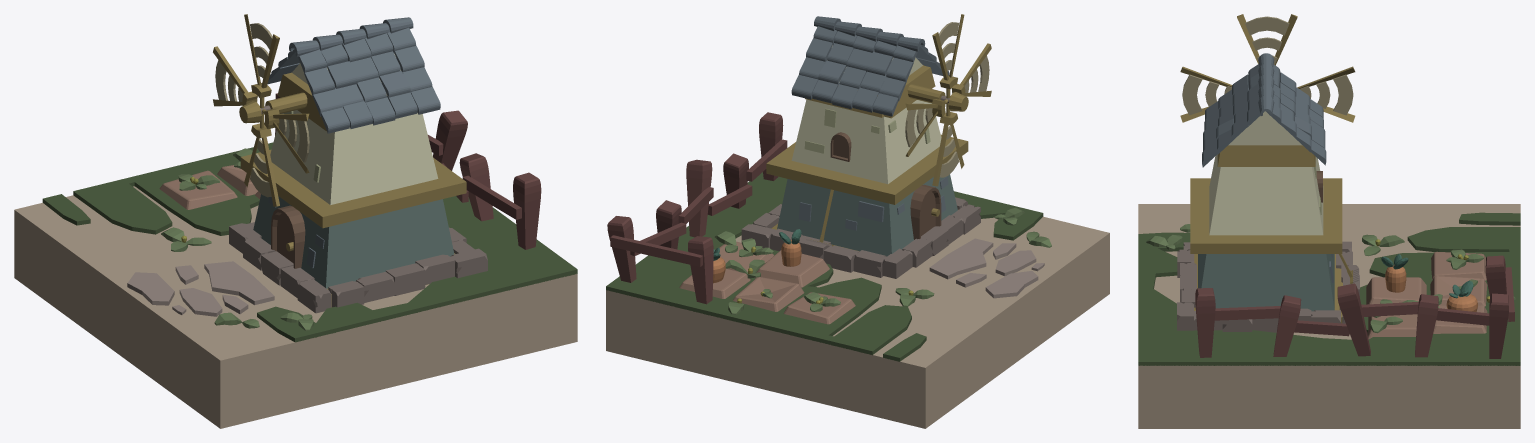
Rendered from 风车导出.fbx.
The picture shows the model from 3 angles, left to right: view 1: azimuth 30°, elevation 25°; view 2: azimuth 150°, elevation 25°; view 3: azimuth 270°, elevation 25°; orthographic projection. The views are drawn at different scales.
Parts seen in each view (by area): view 1: 底座, 立方体, 底座.001, 平面.040, 立方体.001, 平面.001, 立方体.008, 圆环.001, 立方体.006, 立方体.019, 立方体.005, 立方体.007 (+18 smaller); view 2: 底座, 底座.001, 立方体, 平面.023, 立方体.001, 平面.001, 立方体.015, 立方体.017, 圆环.001, 立方体.005, 立方体.006, 立方体.003 (+25 smaller); view 3: 底座, 底座.001, 立方体, 立方体.001, 平面.040, 平面.023, 立方体.005, 立方体.008, 立方体.017, 立方体.004, 立方体.009, 立方体.007 (+19 smaller).
Boxes of the visible parts, x1,y1,x2,y2 form: 底座: (14,186,577,428); 立方体: (253,54,455,307); 底座.001: (42,142,577,342); 平面.040: (298,27,440,133); 立方体.001: (240,149,466,228); 平面.001: (127,261,274,314); 立方体.008: (513,172,541,249); 圆环.001: (289,17,413,56); 立方体.006: (271,205,305,268); 立方体.019: (159,170,237,209); 立方体.005: (433,110,467,170); 立方体.007: (459,153,493,221); 底座: (606,216,1109,428); 底座.001: (606,172,1043,361); 立方体: (771,45,958,256); 平面.023: (791,26,920,116); 立方体.001: (766,134,968,204); 平面.001: (929,238,1044,298); 立方体.015: (733,277,804,311); 立方体.017: (754,250,829,287); 圆环.001: (814,16,925,51); 立方体.005: (686,159,712,237); 立方体.006: (910,184,941,239); 立方体.003: (688,236,713,304); 底座: (1138,204,1520,428); 底座.001: (1138,212,1520,365); 立方体: (1194,111,1342,323); 立方体.001: (1190,178,1342,253); 平面.040: (1202,64,1263,167); 平面.023: (1266,64,1326,165); 立方体.005: (1337,283,1370,356); 立方体.008: (1195,288,1215,357); 立方体.017: (1366,277,1426,304); 立方体.004: (1415,294,1438,357); 立方体.009: (1489,293,1508,358); 立方体.007: (1273,295,1301,356).
Size of the model in its own units: 490 by 423 by 484.
